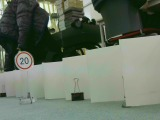speed_20: (12, 50, 34, 70)
